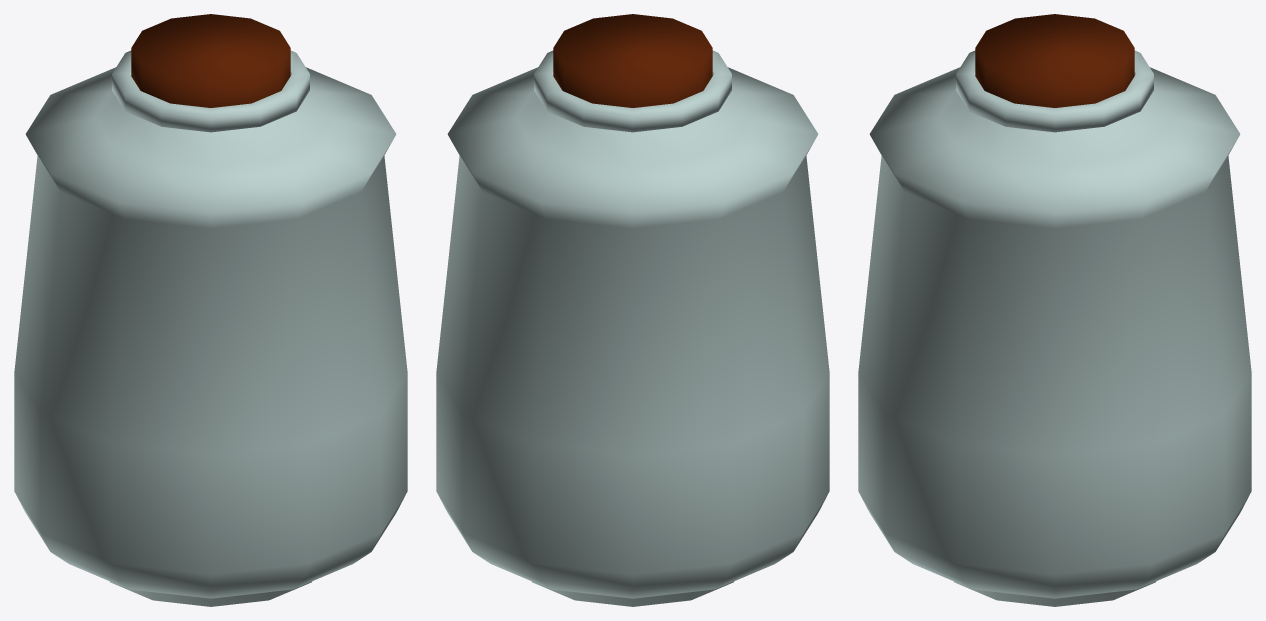
File: crystal slime jar.fbx
3 renders of one model, left to right at view 1: azimuth 30°, elevation 25°; view 2: azimuth 150°, elevation 25°; view 3: azimuth 270°, elevation 25°, orthographic.
Visible parts, largest first — view 1: Circle.001; view 2: Circle.001; view 3: Circle.001.
Part boxes in pixels (<box>): Circle.001: <box>14,14,407,606</box>; Circle.001: <box>436,14,829,606</box>; Circle.001: <box>858,14,1251,606</box>.
Size of the model in its own units: 338 by 484 by 338.
